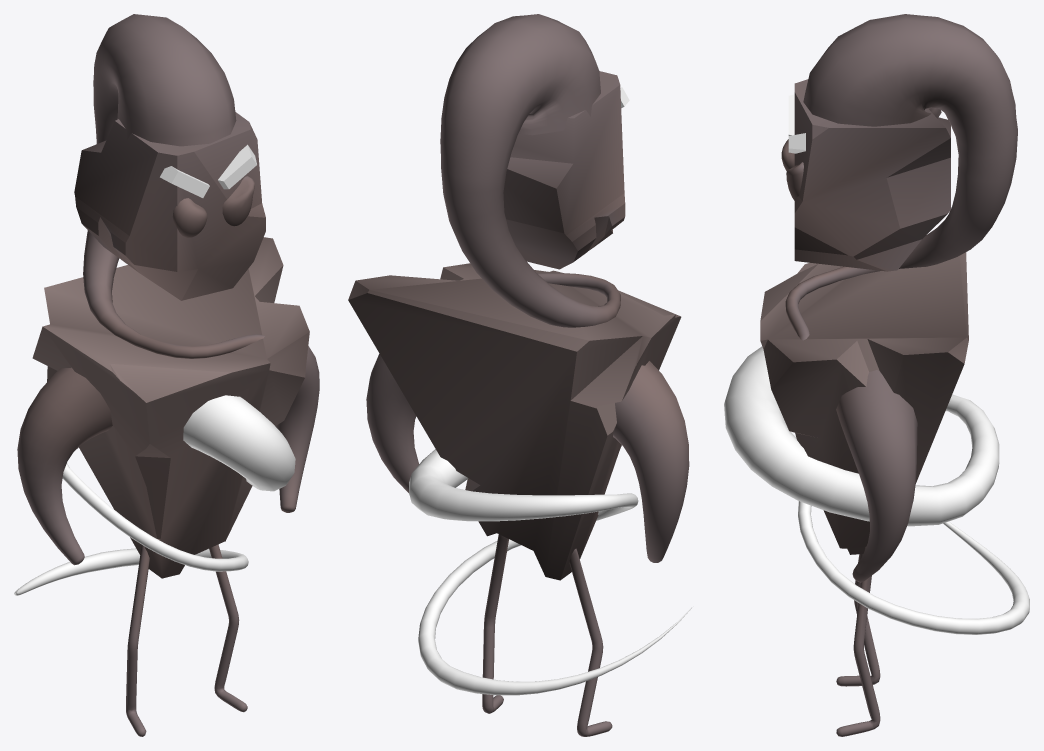
Rendered from Bishop_Fire.fbx.
The picture shows the model from 3 angles, left to right: view 1: azimuth 30°, elevation 25°; view 2: azimuth 150°, elevation 25°; view 3: azimuth 270°, elevation 25°; orthographic projection. The views are drawn at different scales.
Parts seen in each view (by area): view 1: Bishop, Bishop.002, BezierCurve.001, Bishop.001, Cube.011; view 2: Bishop, Bishop.002, BezierCurve.001, Bishop.001; view 3: Bishop, Bishop.002, BezierCurve.001, Bishop.001, Cube.011.
Part boxes in pixels (x1,y1,x2,y2): Bishop: [17, 112, 319, 578]; Bishop.002: [83, 14, 264, 358]; BezierCurve.001: [14, 395, 295, 595]; Bishop.001: [126, 544, 247, 736]; Cube.011: [160, 144, 256, 197]; Bishop: [348, 71, 689, 580]; Bishop.002: [440, 14, 620, 327]; BezierCurve.001: [409, 449, 692, 695]; Bishop.001: [482, 534, 612, 736]; Bishop: [760, 79, 968, 582]; Bishop.002: [785, 14, 1017, 340]; BezierCurve.001: [724, 346, 1029, 634]; Bishop.001: [836, 547, 880, 736]; Cube.011: [788, 94, 805, 153].
Size of the model in its own units: 119 by 255 by 102.
